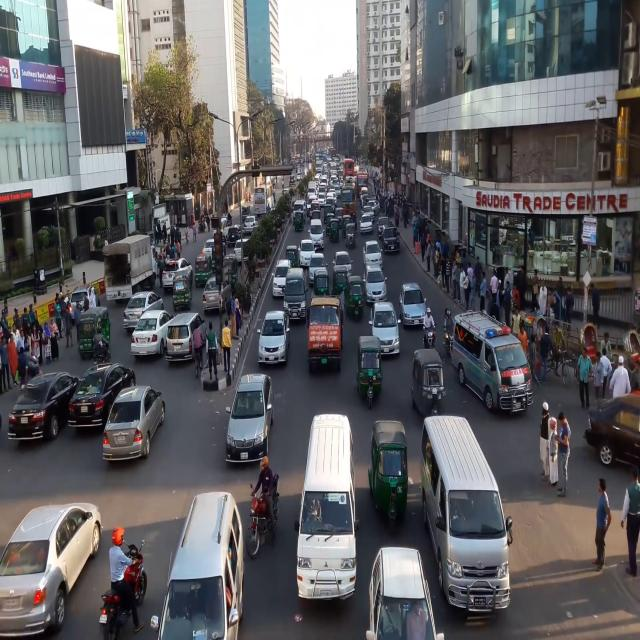black: (8, 373, 76, 452), (68, 364, 134, 432), (583, 389, 640, 466), (283, 268, 307, 324), (382, 226, 401, 256), (226, 225, 238, 245)
silver: (422, 413, 511, 618), (0, 504, 106, 640), (157, 488, 243, 640), (450, 308, 535, 418), (227, 369, 276, 473), (104, 387, 165, 469), (166, 313, 207, 366), (121, 290, 166, 334), (258, 310, 290, 367), (369, 301, 400, 357), (401, 281, 428, 334), (69, 286, 102, 322), (202, 276, 232, 315), (362, 265, 387, 303), (310, 253, 327, 286), (334, 251, 352, 279), (292, 200, 306, 225), (244, 216, 256, 234)
white: (296, 410, 358, 607), (370, 544, 437, 640), (130, 310, 174, 357), (162, 259, 192, 292), (272, 258, 291, 298), (362, 240, 384, 270), (202, 238, 225, 264), (298, 239, 314, 270), (234, 239, 253, 263), (310, 218, 324, 248), (359, 215, 374, 234)
